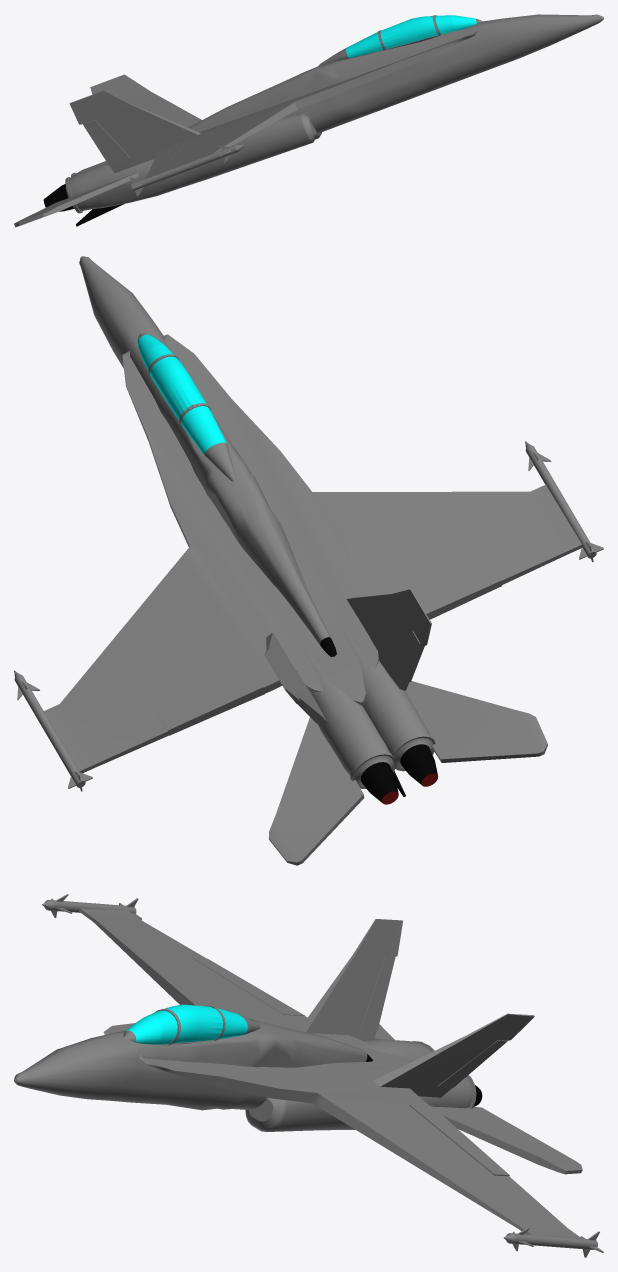
File: texture jet 2.obj
3 views of the same model, one above another, from view 1: azimuth 30°, elevation 25°; view 2: azimuth 150°, elevation 25°; view 3: azimuth 270°, elevation 25° (orthographic). The views are drawn at different scales.
Parts seen in each view (by area): view 1: jet_2_mesh; view 2: jet_2_mesh; view 3: jet_2_mesh.
Part boxes in pixels (bbox=[...]): jet_2_mesh: bbox=[14, 14, 603, 227]; jet_2_mesh: bbox=[14, 256, 603, 865]; jet_2_mesh: bbox=[14, 894, 603, 1257].
Size of the model in its own units: 4.91 by 2.38 by 3.66.
